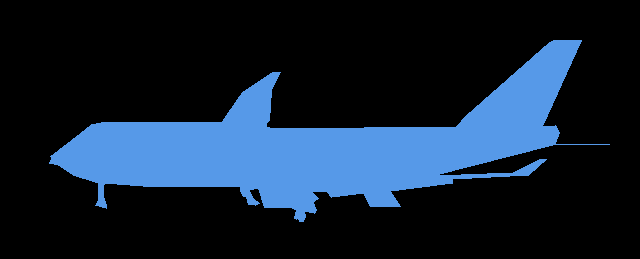Airplane: (49, 40, 609, 222)
